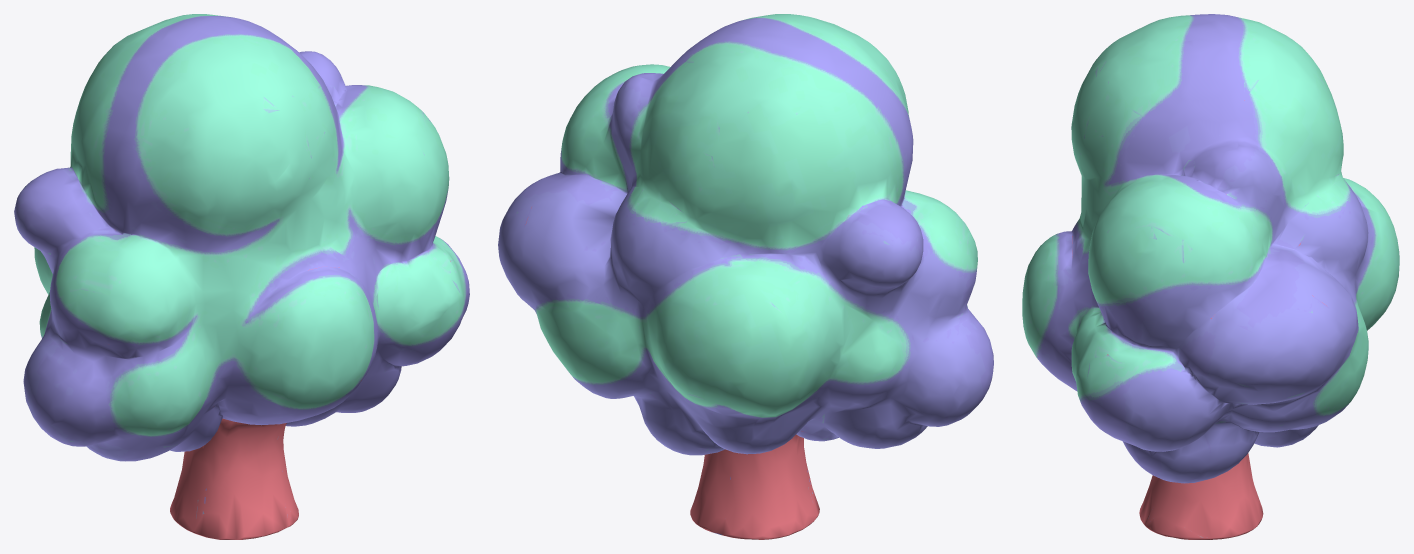
The model's file is tree_pineroundf.glb.
3 renders of one model, left to right at view 1: azimuth 30°, elevation 25°; view 2: azimuth 150°, elevation 25°; view 3: azimuth 270°, elevation 25°, orthographic. The views are drawn at different scales.
Parts seen in each view (by area): view 1: Mesh_0; view 2: Mesh_0; view 3: Mesh_0.
Part boxes in pixels (box(x1,y1,x2,y2)): Mesh_0: box(14, 14, 469, 539); Mesh_0: box(498, 14, 993, 539); Mesh_0: box(1022, 14, 1399, 539).
Bounding box in the file's own units: 1.74 × 1.9 × 1.36.
1 material, 1 textured.
